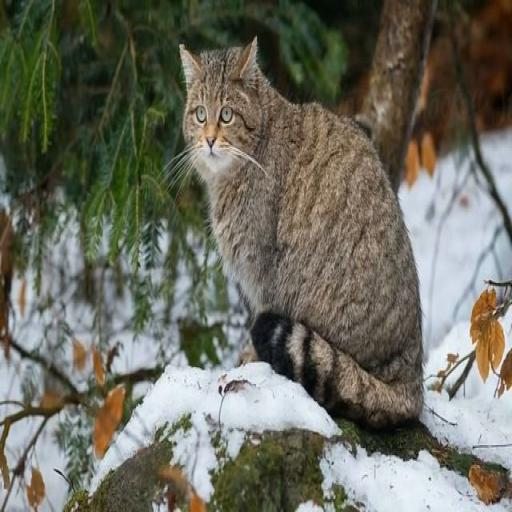cat: (179, 37, 422, 424)
